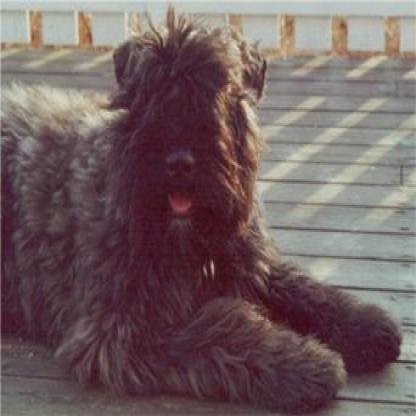Bouvier_des_Flandres: (0, 8, 403, 402)
